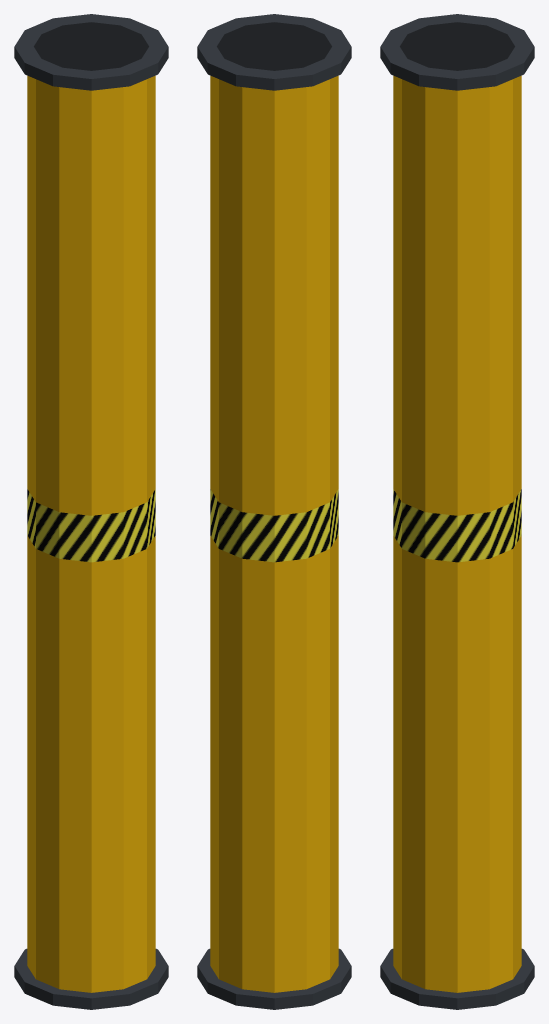
The model's file is Pipe_0.5x4.fbx.
3 views of the same model, side by side, from view 1: azimuth 30°, elevation 25°; view 2: azimuth 150°, elevation 25°; view 3: azimuth 270°, elevation 25° (orthographic).
Parts seen in each view (by area): view 1: Pipe_0.5x4; view 2: Pipe_0.5x4; view 3: Pipe_0.5x4.
Boxes of the visible parts, x1,y1,x2,y2 form: Pipe_0.5x4: (14, 14, 168, 1009); Pipe_0.5x4: (197, 14, 351, 1009); Pipe_0.5x4: (380, 14, 534, 1009).
Bounding box in the file's own units: 60 × 400 × 60.
